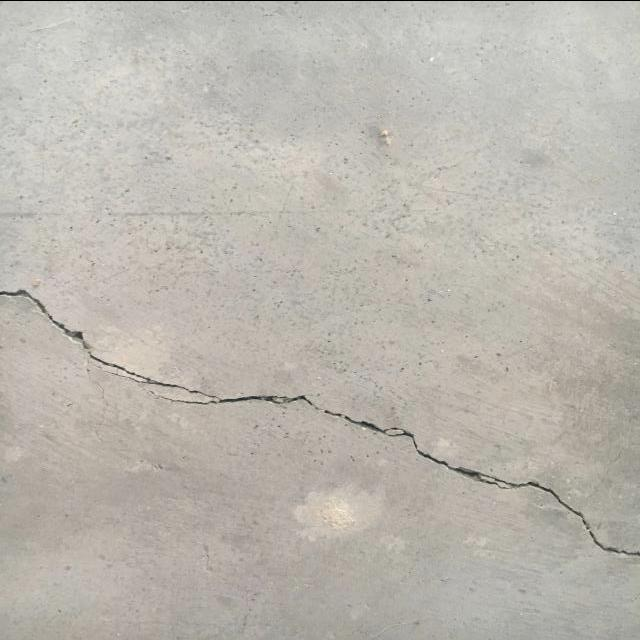SurfaceCrack: (1, 241, 640, 585)
